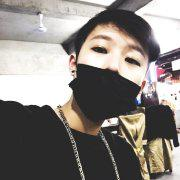WRONG: (74, 37, 144, 110)
